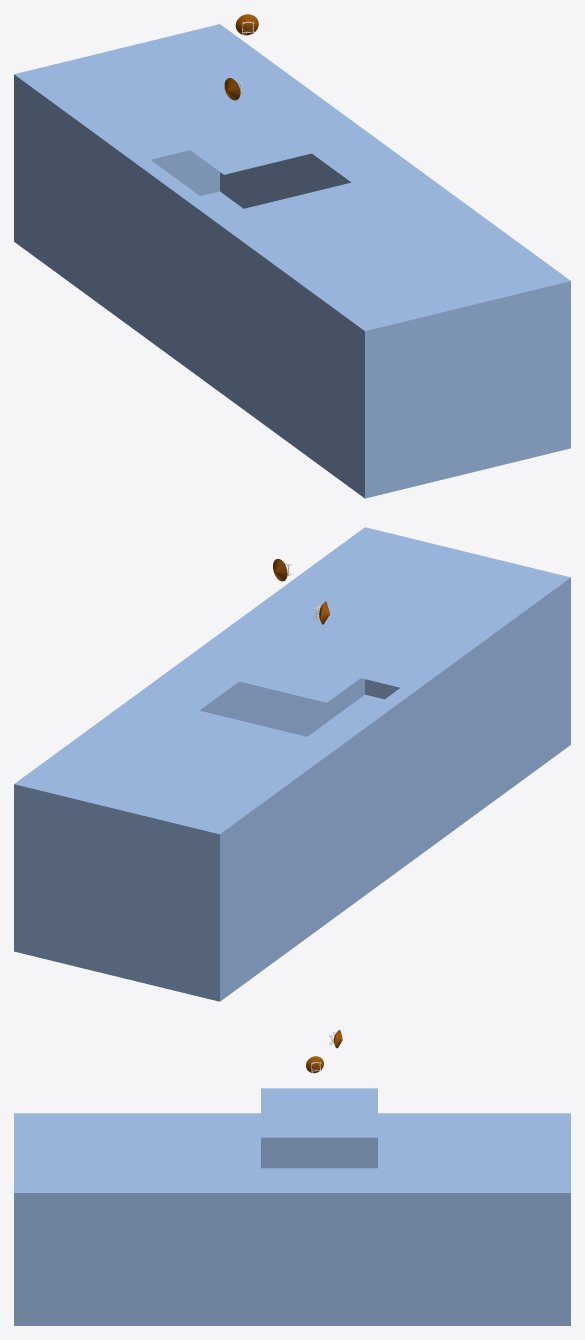
3 renders of one model, top to bottom at view 1: azimuth 30°, elevation 25°; view 2: azimuth 150°, elevation 25°; view 3: azimuth 270°, elevation 25°, orthographic. The views are drawn at different scales.
Visible parts, largest first — view 1: group_27, group_27.001; view 2: group_27, group_27.001; view 3: group_27, group_27.001.
Boxes of the visible parts, bbox=[...] form: group_27: bbox=[14, 24, 570, 498]; group_27.001: bbox=[151, 90, 350, 174]; group_27: bbox=[14, 527, 570, 1001]; group_27.001: bbox=[200, 618, 399, 702]; group_27: bbox=[14, 1113, 570, 1325]; group_27.001: bbox=[261, 1088, 377, 1137].
Bounding box in the file's own units: 21 × 30.57 × 62.
